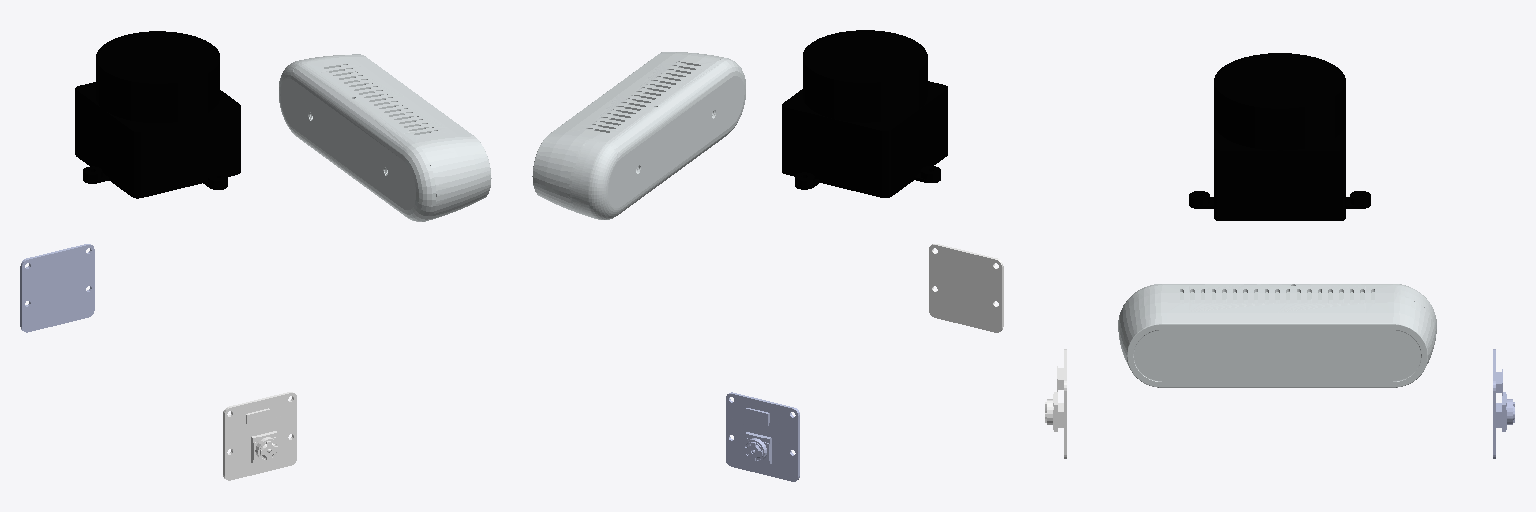
URDF robot description (vehiculo_urdf_v2):
<?xml version="1.0" encoding="utf-8"?>
<!-- This URDF was automatically created by SolidWorks to URDF Exporter! Originally created by
[author] ([email redacted]) 
     Commit Version: 1.6.0-4-g7f85cfe  Build Version:
1.6.7995.38578
     For more information, please see http://wiki.ros.org/sw_urdf_exporter -->
<robot
  name="vehiculo_urdf_v2">
  <link
    name="base_link">
    <inertial>
      <origin
        xyz="-0.0012936 -0.0013074 0.052855"
        rpy="0 0 0" />
      <mass
        value="0.65815" />
      <inertia
        ixx="0.0006861"
        ixy="-2.0593E-06"
        ixz="5.8448E-06"
        iyy="0.0016384"
        iyz="1.37E-08"
        izz="0.0021405" />
    </inertial>
    <visual>
      <origin
        xyz="0 0 0"
        rpy="0 0 0" />
      <geometry>
        <mesh
          filename="package://vehicle_description/meshes/base_link.STL" />
      </geometry>
      <material
        name="">
        <color
          rgba="1 1 1 1" />
      </material>
    </visual>
    <collision>
      <origin
        xyz="0 0 0"
        rpy="0 0 0" />
      <geometry>
        <mesh
          filename="package://vehicle_description/meshes/base_link.STL" />
      </geometry>
    </collision>
  </link>

  <link
    name="link_lidar">
    <inertial>
      <origin
        xyz="-1.3261E-05 0 -0.01853"
        rpy="0 0 0" />
      <mass
        value="0.064116" />
      <inertia
        ixx="1.3258E-05"
        ixy="4.4109E-22"
        ixz="-1.2789E-08"
        iyy="1.3212E-05"
        iyz="-2.5949E-22"
        izz="1.3761E-05" />
    </inertial>
    <visual>
      <origin
        xyz="0 0 0"
        rpy="0 0 0" />
      <geometry>
        <mesh
          filename="package://vehicle_description/meshes/link_lidar.STL" />
      </geometry>
      <material
        name="">
        <color
          rgba="0.019608 0.019608 0.019608 1" />
      </material>
    </visual>
    <collision>
      <origin
        xyz="0 0 0"
        rpy="0 0 0" />
      <geometry>
        <mesh
          filename="package://vehicle_description/meshes/link_lidar.STL" />
      </geometry>
    </collision>
  </link>

  <link
    name="link_realsense">
    <inertial>
      <origin
        xyz="-0.01273 -2.7327E-07 -4.8132E-05"
        rpy="0 0 0" />
      <mass
        value="0.048199" />
      <inertia
        ixx="2.7389E-05"
        ixy="-4.2604E-07"
        ixz="7.5461E-09"
        iyy="3.3505E-06"
        iyz="2.2352E-09"
        izz="2.665E-05" />
    </inertial>
    <visual>
      <origin
        xyz="0 0 0"
        rpy="0 0 0" />
      <geometry>
        <mesh
          filename="package://vehicle_description/meshes/link_realsense.STL" />
      </geometry>
      <material
        name="">
        <color
          rgba="0.89804 0.92157 0.92941 1" />
      </material>
    </visual>
    <collision>
      <origin
        xyz="0 0 0"
        rpy="0 0 0" />
      <geometry>
        <mesh
          filename="package://vehicle_description/meshes/link_realsense.STL" />
      </geometry>
    </collision>
  </link>

  <link name="camera_depth_link"></link>

  <link
    name="link_camera_left">
    <inertial>
      <origin
        xyz="6.5635E-05 -0.0048087 0.0021608"
        rpy="0 0 0" />
      <mass
        value="0.0067428" />
      <inertia
        ixx="2.7218E-07"
        ixy="-2.4896E-10"
        ixz="-3.357E-09"
        iyy="4.9747E-07"
        iyz="8.1629E-09"
        izz="2.5635E-07" />
    </inertial>
    <visual>
      <origin
        xyz="0 0 0"
        rpy="0 0 -1.57" />
      <geometry>
        <mesh
          filename="package://vehicle_description/meshes/link_camera_left.STL" />
      </geometry>
      <material
        name="">
        <color
          rgba="0.79216 0.81961 0.93333 1" />
      </material>
    </visual>
    <collision>
      <origin
        xyz="0 0 0"
        rpy="0 0 0" />
      <geometry>
        <mesh
          filename="package://vehicle_description/meshes/link_camera_left.STL" />
      </geometry>
    </collision>
  </link>

  <link
    name="link_camera_right">
    <inertial>
      <origin
        xyz="0 0 0"
        rpy="0 0 0" />
      <mass
        value="0.0067428" />
      <inertia
        ixx="0"
        ixy="0"
        ixz="0"
        iyy="0"
        iyz="0"
        izz="0" />
    </inertial>
    <visual>
      <origin
        xyz="0 0 0"
        rpy="0 0 1.57" />
      <geometry>
        <mesh
          filename="package://vehicle_description/meshes/link_camera_right.STL" />
      </geometry>
      <material
        name="">
        <color
          rgba="1 1 1 1" />
      </material>
    </visual>
    <collision>
      <origin
        xyz="0 0 0"
        rpy="0 0 0" />
      <geometry>
        <mesh
          filename="package://vehicle_description/meshes/link_camera_right.STL" />
      </geometry>
    </collision>
  </link>

  <!-- Define Joints -->
  <joint
    name="joint_lidar"
    type="fixed">
    <origin
      xyz="0.0011194 -0.0018421 0.17525"
      rpy="0 0 0" />
    <parent
      link="base_link" />
    <child
      link="link_lidar" />
    <axis
      xyz="0 0 0" />
  </joint>

  <joint name="camera_depth_joint"
    type="fixed">
    <origin xyz="0 0 0" rpy="-1.57 0 -1.57" />
    <parent link="link_realsense" />
    <child link="camera_depth_link" />
  </joint>

  <joint
    name="joint_realsense"
    type="fixed">
    <origin
      xyz="0.091198 -0.0025328 0.13167"
      rpy="0 0 0" />
    <parent
      link="base_link" />
    <child
      link="link_realsense" />
    <axis
      xyz="0 0 0" />
    <limit
      lower="0"
      upper="0"
      effort="0"
      velocity="0" />
  </joint>

  <joint
    name="joint_camera_left"
    type="fixed">
    <origin
      xyz="0.001298 0.064363 0.072198"
      rpy="0 0 1.57" />
    <parent
      link="base_link" />
    <child
      link="link_camera_left" />
    <axis
      xyz="0 0 0" />
  </joint>

  <joint
    name="joint_camera_right"
    type="fixed">
    <origin
      xyz="0.001298 -0.068037 0.072198"
      rpy="0 0 -1.57" />
    <parent
      link="base_link" />
    <child
      link="link_camera_right" />
    <axis
      xyz="0 0 0" />
  </joint>
</robot>

--- Render facts (derived) ---
Views: 3 orthographic renders of the robot side by side, from view 1: azimuth 30°, elevation 25°; view 2: azimuth 150°, elevation 25°; view 3: azimuth 270°, elevation 25°.
Model vehiculo_urdf_v2 with 6 links and 5 joints (5 fixed), rooted at base_link, posed every joint at zero.
Visible links, largest first — view 1: link_lidar, link_realsense, link_camera_left, link_camera_right; view 2: link_lidar, link_realsense, link_camera_right, link_camera_left; view 3: link_realsense, link_lidar, link_camera_right, link_camera_left.
Link boxes in pixels (x1,y1,x2,y2): link_lidar: [75, 31, 240, 198]; link_realsense: [279, 54, 491, 221]; link_camera_left: [20, 244, 94, 332]; link_camera_right: [223, 392, 296, 480]; link_lidar: [782, 30, 947, 197]; link_realsense: [532, 52, 745, 219]; link_camera_right: [929, 244, 1003, 332]; link_camera_left: [726, 392, 799, 481]; link_realsense: [1118, 284, 1436, 387]; link_lidar: [1189, 53, 1370, 220]; link_camera_right: [1045, 349, 1066, 458]; link_camera_left: [1493, 349, 1514, 458].
Size in the robot's own frame: 0.1158 by 0.1329 by 0.1125 metres.
4 mesh visuals loaded from 5 distinct referenced files (4 binary STL); not drawn: 1 (file found but could not be loaded).
